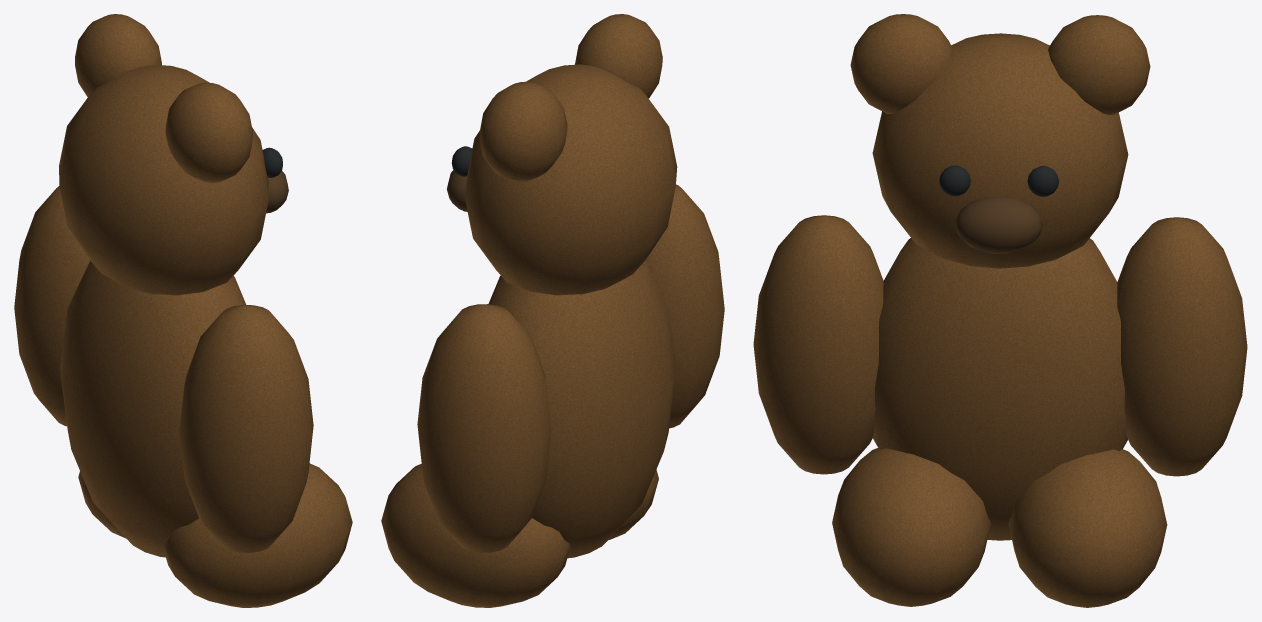
The model's file is SM_TeddyPrize_c8dff94f70.fbx.
The picture shows the model from 3 angles, left to right: view 1: azimuth 30°, elevation 25°; view 2: azimuth 150°, elevation 25°; view 3: azimuth 270°, elevation 25°; orthographic projection. The views are drawn at different scales.
Parts seen in each view (by area): view 1: SM_TeddyPrize_c8dff94f70; view 2: SM_TeddyPrize_c8dff94f70; view 3: SM_TeddyPrize_c8dff94f70.
Part boxes in pixels (box(x1,y1,x2,y2)): SM_TeddyPrize_c8dff94f70: box(14, 14, 352, 607); SM_TeddyPrize_c8dff94f70: box(381, 14, 724, 607); SM_TeddyPrize_c8dff94f70: box(753, 14, 1247, 607).
Size of what is drawn, in the model's own units: 30.83 by 55.46 by 68.34.
Materials: 3 (1 with a texture image).
